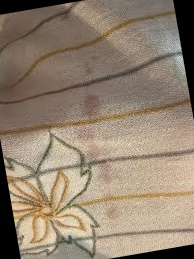wine: (71, 122, 110, 160), (89, 163, 122, 197), (75, 91, 104, 120), (74, 55, 100, 82), (96, 199, 121, 225)
